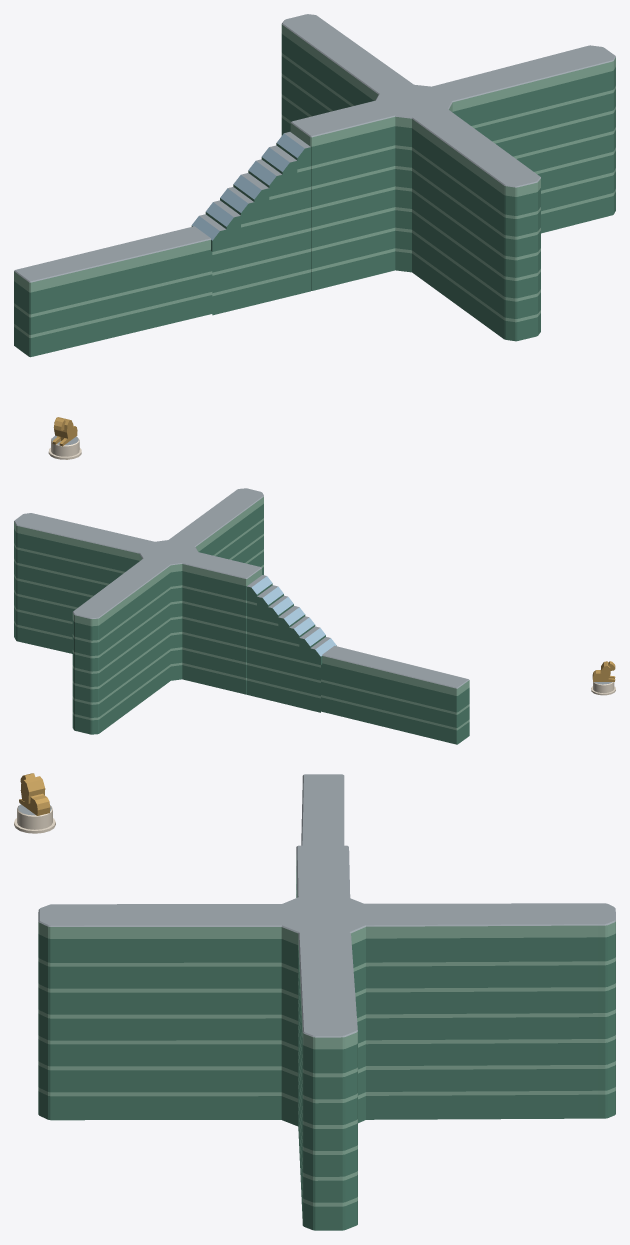
The model's file is lv-mgm-grand.glb.
3 views of the same model, one above another, from view 1: azimuth 30°, elevation 25°; view 2: azimuth 150°, elevation 25°; view 3: azimuth 270°, elevation 25° (orthographic). The views are drawn at different scales.
Visible parts, largest first — view 1: MGM Grand Las Vegas; view 2: MGM Grand Las Vegas; view 3: MGM Grand Las Vegas.
Part boxes in pixels (left/top/right/bottom): MGM Grand Las Vegas: left=14, top=14, right=615, bottom=459; MGM Grand Las Vegas: left=14, top=488, right=615, bottom=744; MGM Grand Las Vegas: left=14, top=773, right=615, bottom=1230.
Bounding box in the file's own units: 408 × 89 × 250.
